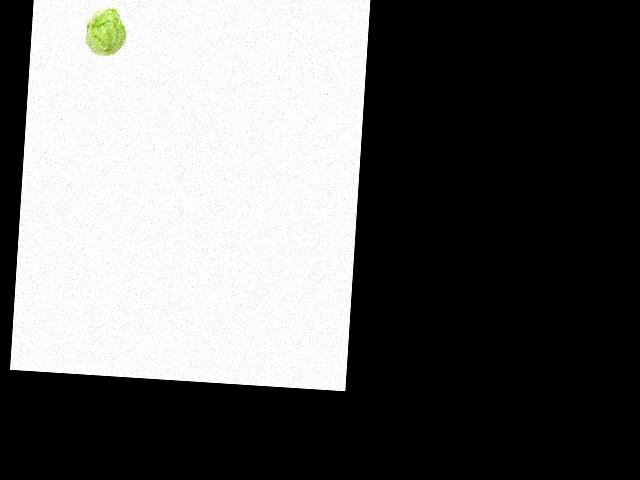lettuce: (84, 1, 132, 61)
